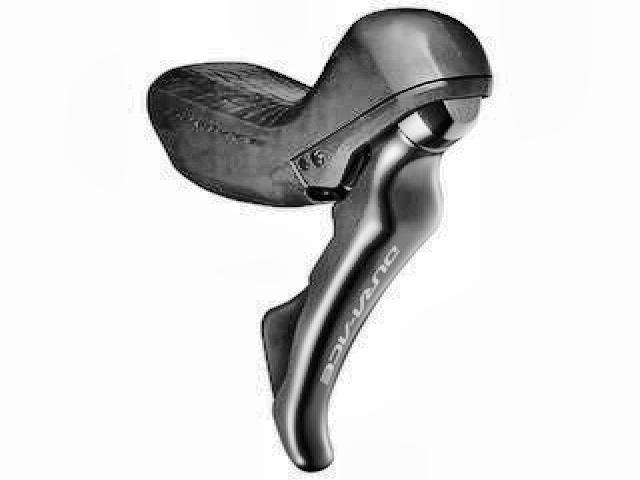sti_shifter: (147, 9, 493, 470)
